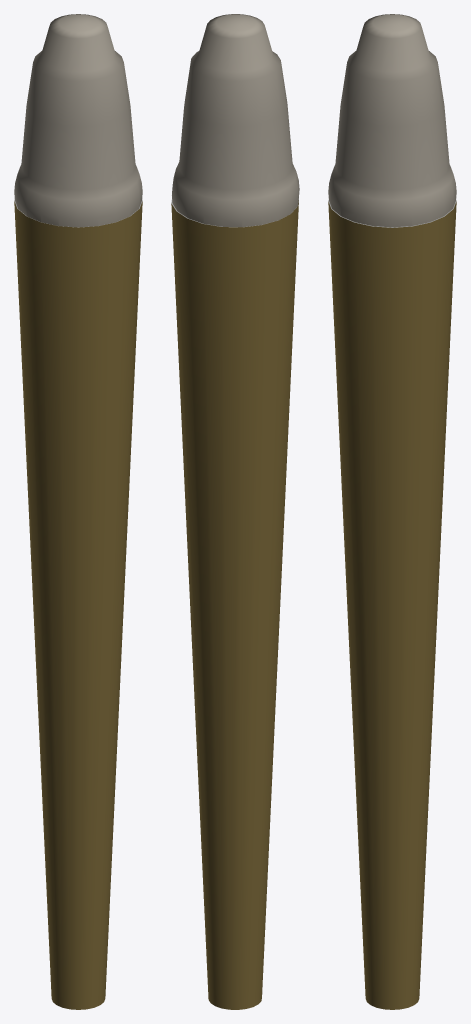
File: Paintbrush.fbx
The picture shows the model from 3 angles, left to right: view 1: azimuth 90°, elevation 25°; view 2: azimuth 150°, elevation 25°; view 3: azimuth 270°, elevation 25°; orthographic projection.
Parts seen in each view (by area): view 1: pSphere5; view 2: pSphere5; view 3: pSphere5.
Part boxes in pixels (x1,y1,x2,y2): pSphere5: (14, 14, 142, 1009); pSphere5: (171, 14, 299, 1009); pSphere5: (328, 14, 456, 1009).
Bounding box in the file's own units: 0.9101 × 7.62 × 0.9065.
